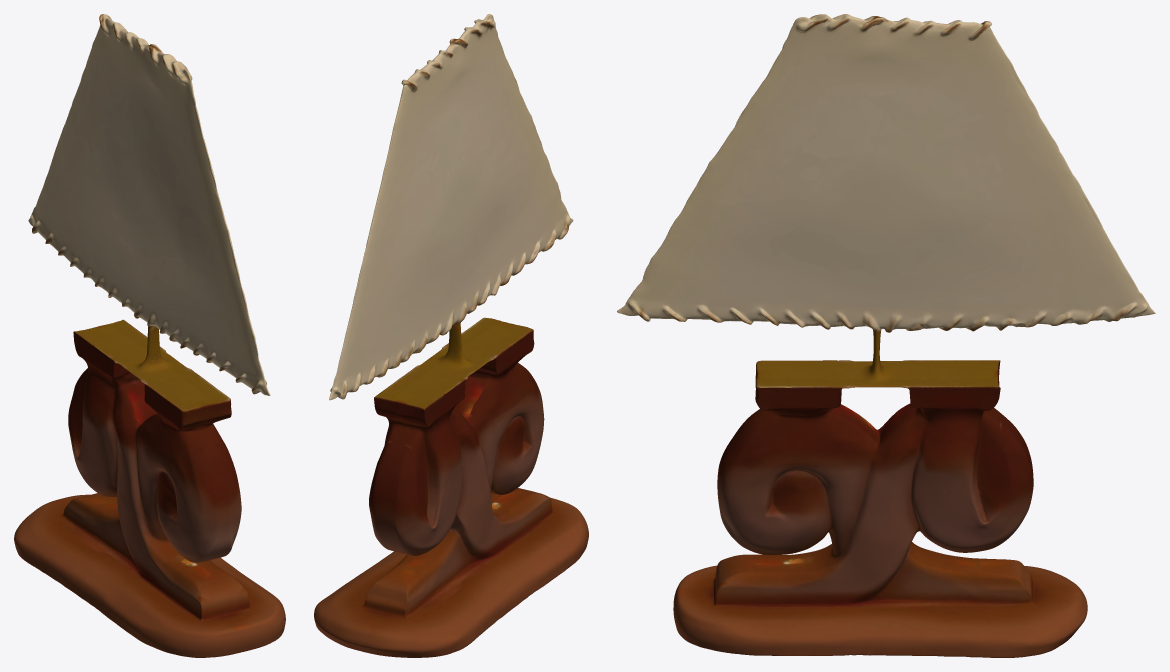
3 views of the same model, side by side, from view 1: azimuth 30°, elevation 25°; view 2: azimuth 150°, elevation 25°; view 3: azimuth 270°, elevation 25° (orthographic). The views are drawn at different scales.
Visible parts, largest first — view 1: tripo_node_495d87a9-5d55-473f-9939-ddfc1f0efc39; view 2: tripo_node_495d87a9-5d55-473f-9939-ddfc1f0efc39; view 3: tripo_node_495d87a9-5d55-473f-9939-ddfc1f0efc39.
Boxes of the visible parts, <box> form: tripo_node_495d87a9-5d55-473f-9939-ddfc1f0efc39: <box>14,14,285,657</box>; tripo_node_495d87a9-5d55-473f-9939-ddfc1f0efc39: <box>314,14,588,657</box>; tripo_node_495d87a9-5d55-473f-9939-ddfc1f0efc39: <box>617,14,1155,657</box>.
Size of the model in its own units: 0.2753 by 1 by 0.8086.
1 material, 1 textured.
